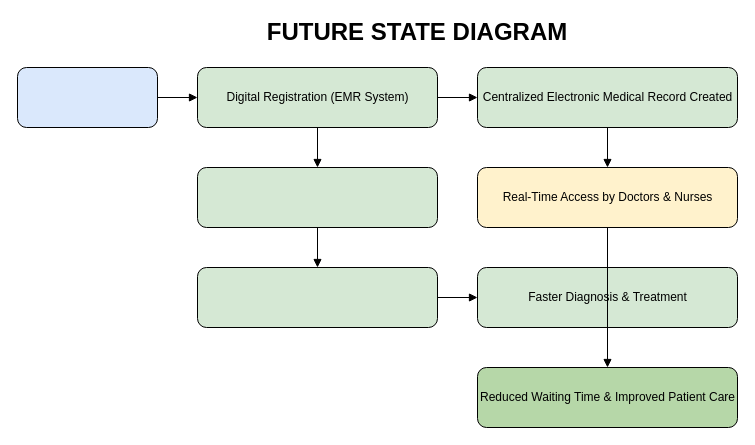
This 755x445 diagram has some shape labels left out. The box of each missing label's shape, as (x1, y1, x2, y2) in pixels:
Integrated Communication System: (196, 166, 438, 228)
Patient Arrives: (16, 66, 158, 128)
Pharmacy & Lab Integration: (196, 266, 438, 328)
